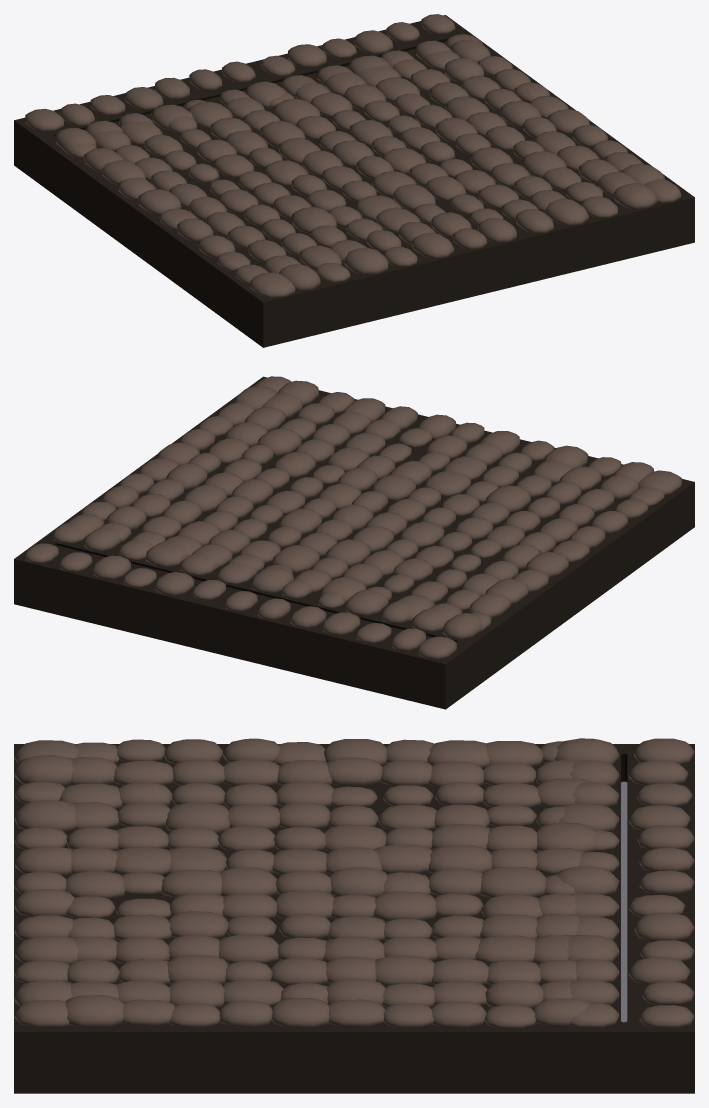
The model's file is 26-cobble-t-junction.glb.
3 views of the same model, one above another, from view 1: azimuth 30°, elevation 25°; view 2: azimuth 150°, elevation 25°; view 3: azimuth 270°, elevation 25° (orthographic). The views are drawn at different scales.
Parts seen in each view (by area): view 1: cobbles, slab; view 2: cobbles, slab; view 3: cobbles, slab.
Boxes of the visible parts, x1,y1,x2,y2 form: cobbles: (25, 14, 681, 298); slab: (14, 15, 694, 347); cobbles: (25, 376, 681, 659); slab: (14, 376, 694, 709); cobbles: (14, 738, 694, 1028); slab: (14, 744, 694, 1093).
Bounding box in the file's own units: 1 × 0.1285 × 1.
